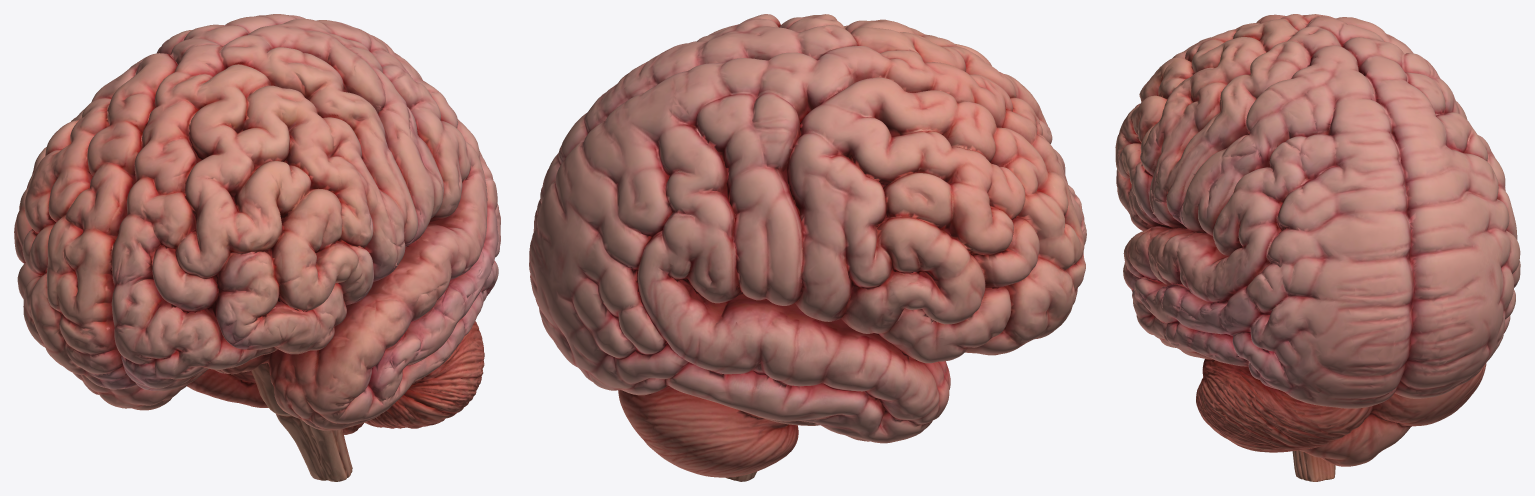
Rendered from brain.glb.
3 views of the same model, side by side, from view 1: azimuth 30°, elevation 25°; view 2: azimuth 150°, elevation 25°; view 3: azimuth 270°, elevation 25° (orthographic). The views are drawn at different scales.
Parts seen in each view (by area): view 1: tripo_node_938185c2-e59c-4f52-8e5e-bb526af0889b; view 2: tripo_node_938185c2-e59c-4f52-8e5e-bb526af0889b; view 3: tripo_node_938185c2-e59c-4f52-8e5e-bb526af0889b.
Part boxes in pixels (x1,y1,x2,y2): tripo_node_938185c2-e59c-4f52-8e5e-bb526af0889b: (14, 14, 500, 481); tripo_node_938185c2-e59c-4f52-8e5e-bb526af0889b: (529, 14, 1086, 481); tripo_node_938185c2-e59c-4f52-8e5e-bb526af0889b: (1115, 14, 1520, 481).
Bounding box in the file's own units: 0.9804 × 0.9006 × 0.8079.
Materials: 1 (1 with a texture image).
